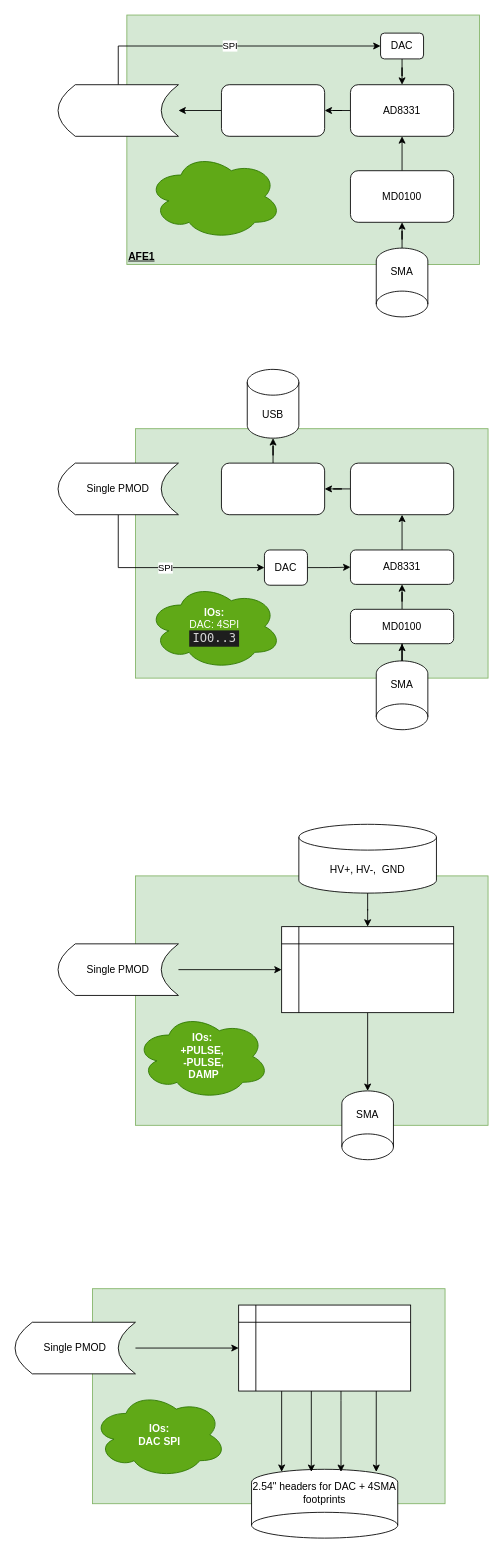
Image size: 503x1553. Some labels were removed from this diagram. Each missing label, with the box of its shape:
AFE2: (135, 428, 488, 678)
Dual PMOD: (57, 84, 178, 136)
Fast ADC (60Msp+), 10bits: (221, 84, 325, 136)
Gradient PMOD: (92, 1288, 445, 1504)
IOs: ADC: 10bits + 1clk DAC: 4SPI Logic: HILO: (147, 153, 282, 240)
ltc2634: (238, 1304, 411, 1391)
MD1213 + TC6320: (281, 926, 454, 1013)
MSI001: (350, 462, 454, 515)
MSI2500: (221, 462, 325, 515)
Ultrasound pulser: (135, 875, 488, 1125)
